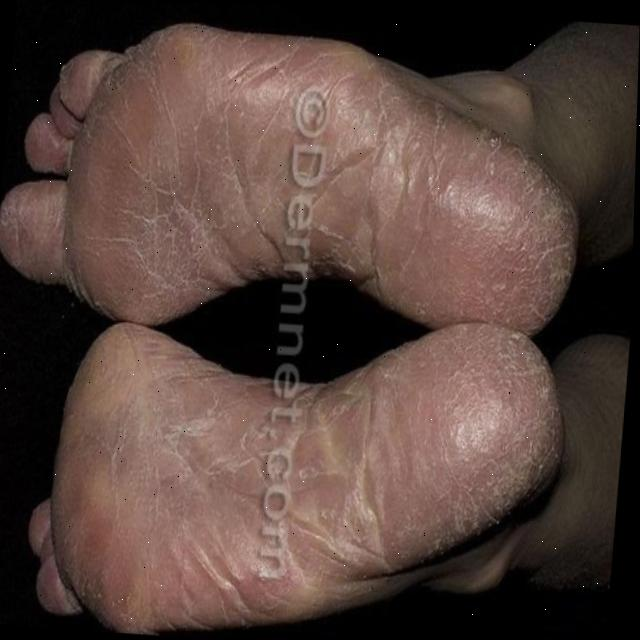Eczema: (70, 86, 548, 617)
